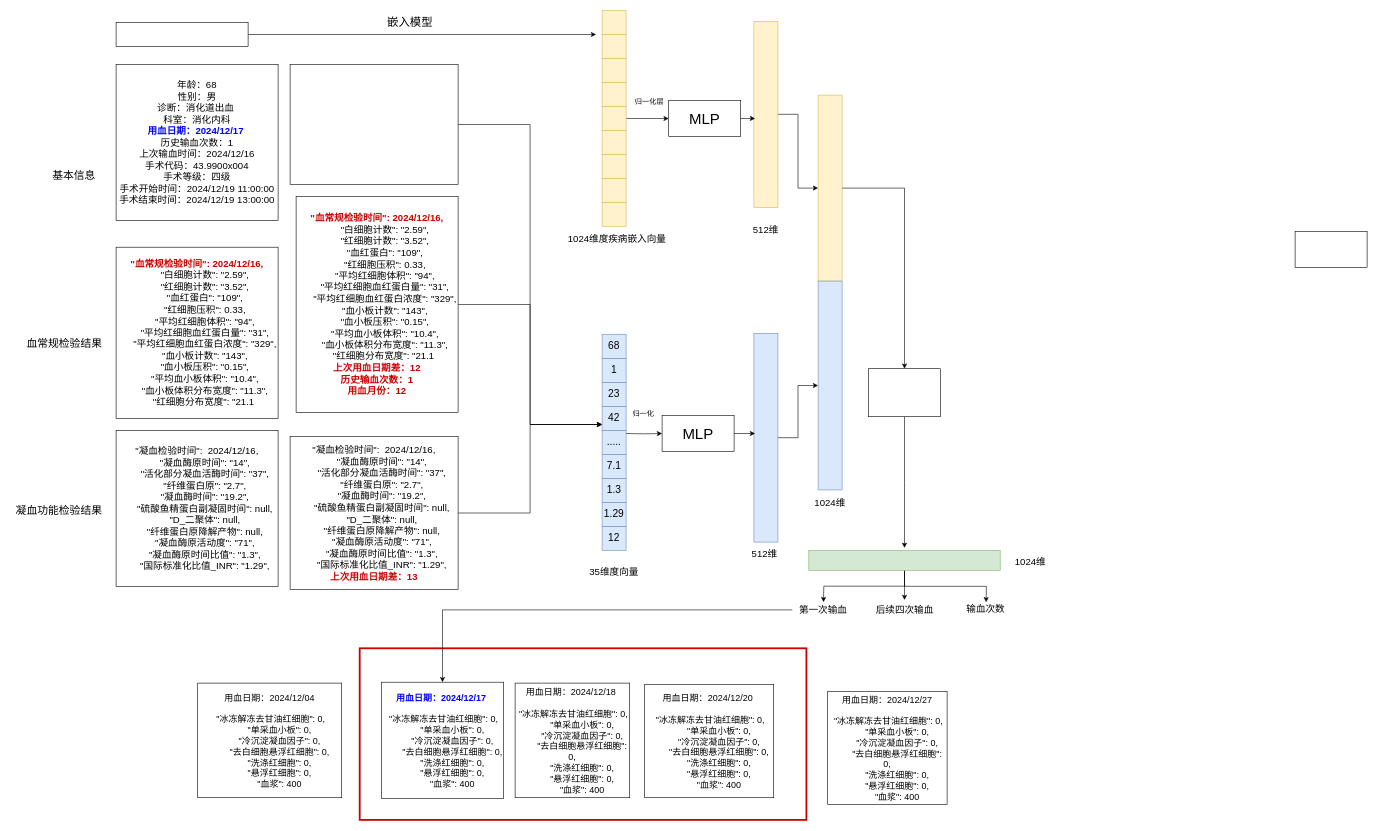
Image size: 1378x831. Some labels were removed from this diagram. The shapes that lost their labels are listed below. From the top down, each one's centre as x and y in pixels, then its label:
At pixel 182 34: "消化道出血".
At pixel 374 124: "年龄：68 性别：男 诊断分类： 消化系统疾病 科室分类：消化内科 手术代码：43 手术等级：4 手术时间：2".
At pixel 904 392: "1D ResNet".
